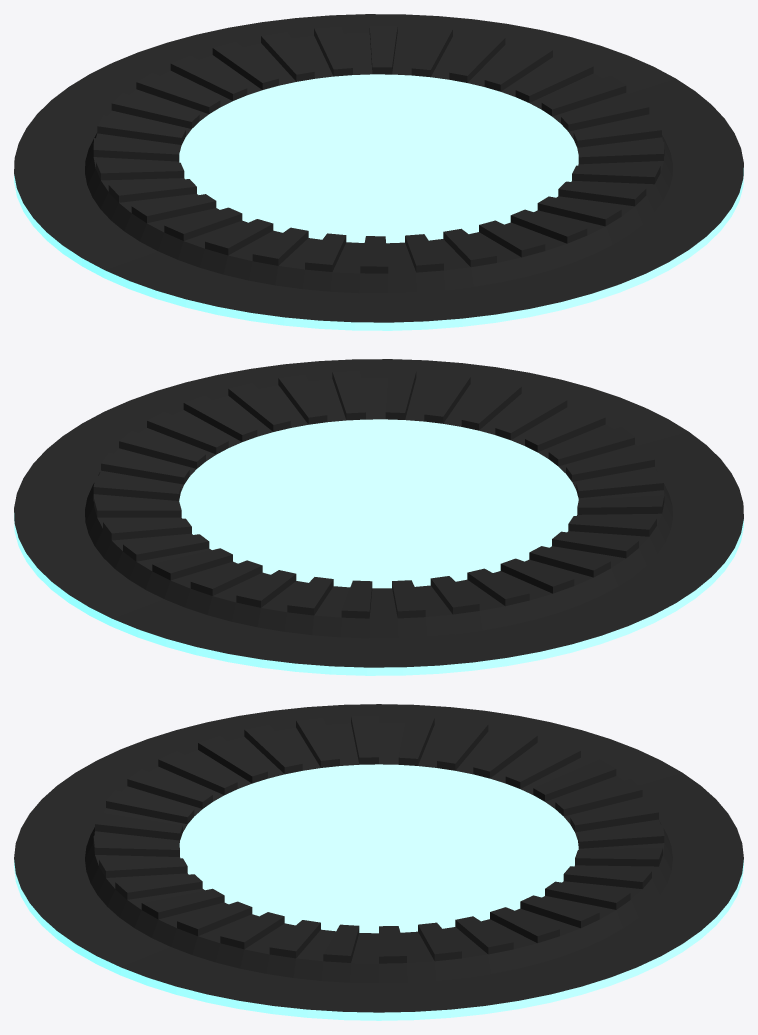
3 views of the same model, one above another, from view 1: azimuth 30°, elevation 25°; view 2: azimuth 150°, elevation 25°; view 3: azimuth 270°, elevation 25° (orthographic).
Parts seen in each view (by area): view 1: Disc; view 2: Disc; view 3: Disc.
Part boxes in pixels (left/top/right/bottom): Disc: left=14, top=14, right=743, bottom=330; Disc: left=14, top=359, right=743, bottom=675; Disc: left=14, top=704, right=743, bottom=1020.
Size of the model in its own units: 8 by 0.642 by 8.
